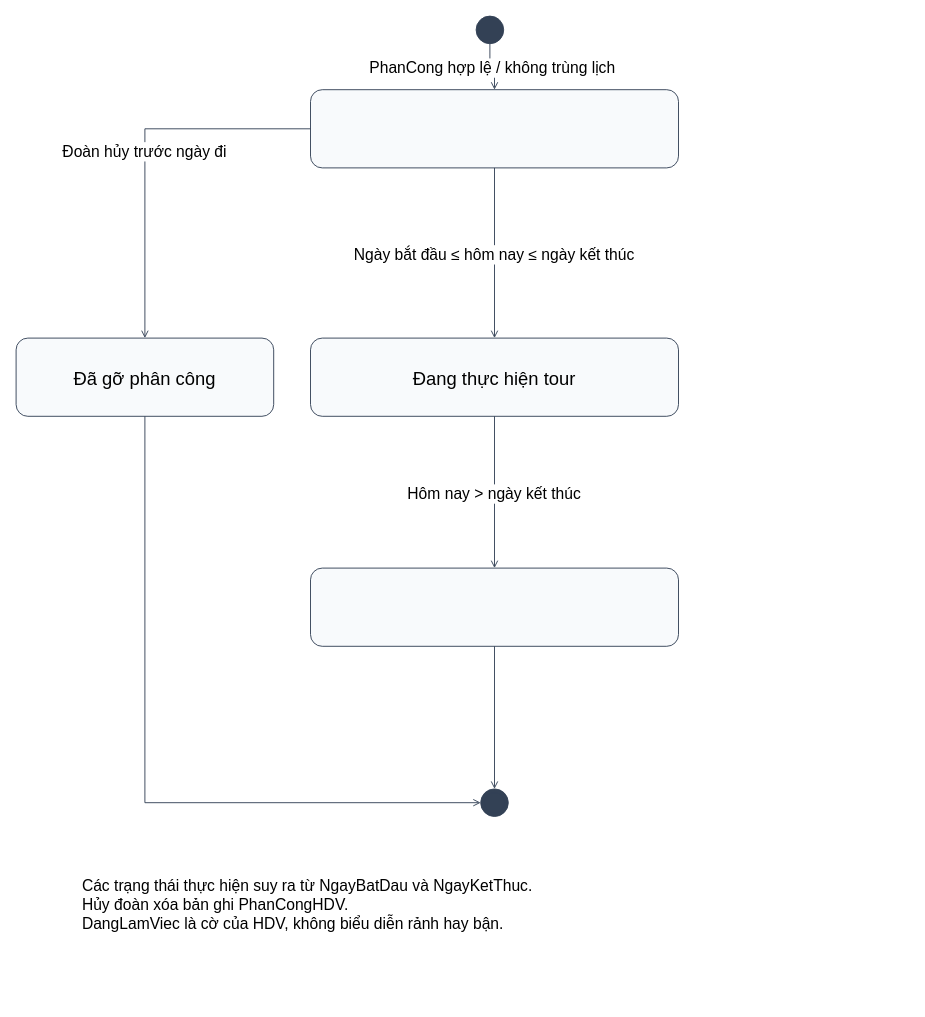
Image size: 925x1017. Some labels were removed from this diagram. The box of each missing label's shape, as (x1, y1, x2, y2) in pixels:
Đã hoàn thành tour: (310, 567, 678, 646)
Đã phân công Chờ thực hiện tour: (310, 89, 678, 168)
